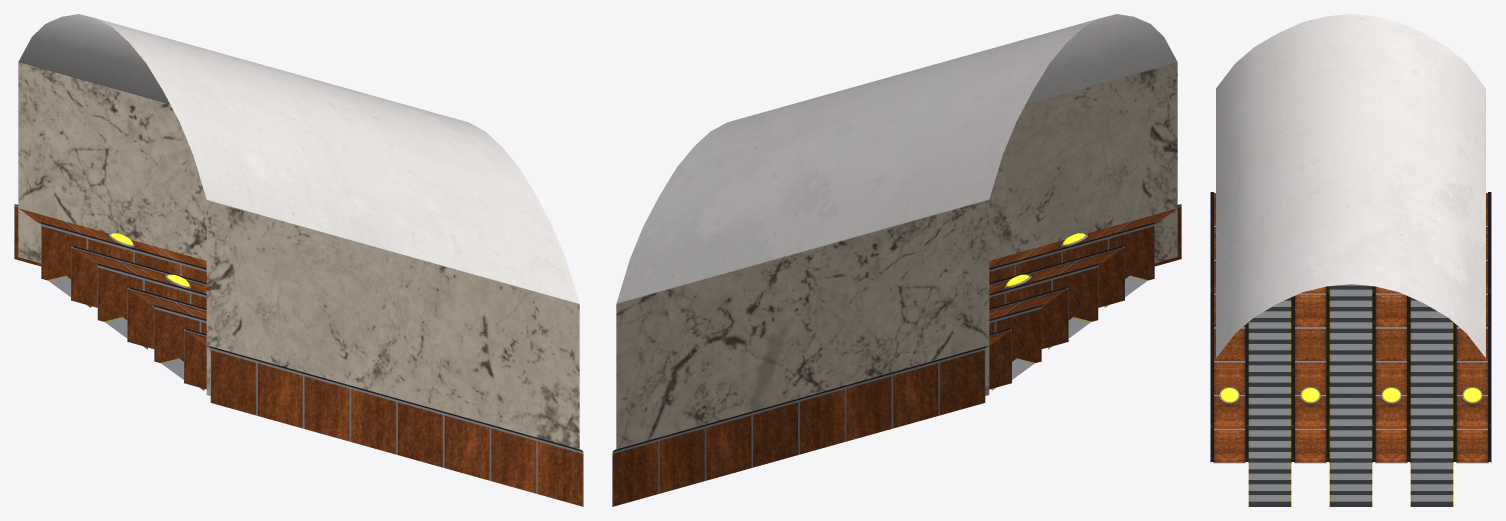
Rendered from interchange escalator middle part.fbx.
The picture shows the model from 3 angles, left to right: view 1: azimuth 30°, elevation 25°; view 2: azimuth 150°, elevation 25°; view 3: azimuth 270°, elevation 25°; orthographic projection. The views are drawn at different scales.
Visible parts, largest first — view 1: escalator middle part.006; view 2: escalator middle part.006; view 3: escalator middle part.006.
Boxes of the visible parts, bbox=[...] form: escalator middle part.006: bbox=[14, 14, 583, 506]; escalator middle part.006: bbox=[612, 14, 1181, 506]; escalator middle part.006: bbox=[1210, 14, 1491, 506].
Bounding box in the file's own units: 730 × 821 × 1033.
